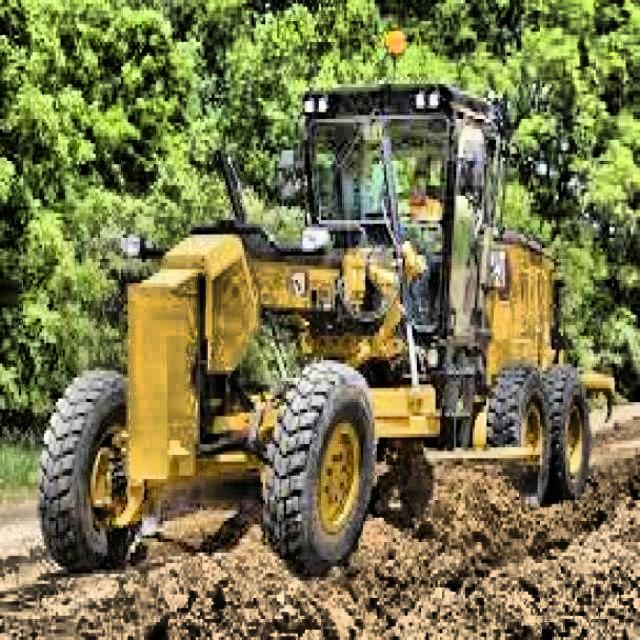bull_dozer/loader/grader: (37, 78, 618, 582)
person: (394, 172, 444, 258)
